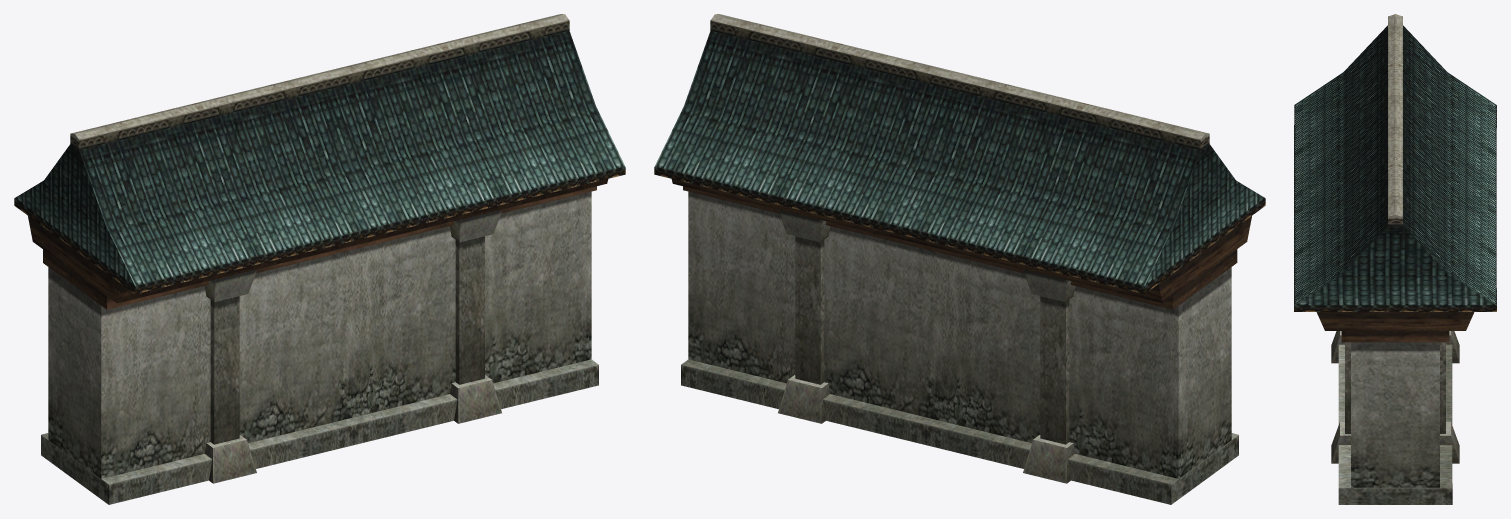
The model's file is gls_a_wall-lin2.fbx.
The picture shows the model from 3 angles, left to right: view 1: azimuth 30°, elevation 25°; view 2: azimuth 150°, elevation 25°; view 3: azimuth 270°, elevation 25°; orthographic projection. The views are drawn at different scales.
Visible parts, largest first — view 1: gls_A_wall-lin2; view 2: gls_A_wall-lin2; view 3: gls_A_wall-lin2.
Part boxes in pixels (box(x1,y1,x2,y2)): gls_A_wall-lin2: box(14, 14, 625, 504); gls_A_wall-lin2: box(654, 14, 1265, 504); gls_A_wall-lin2: box(1294, 14, 1496, 504).
Bounding box in the file's own units: 10 × 6.75 × 4.27.
